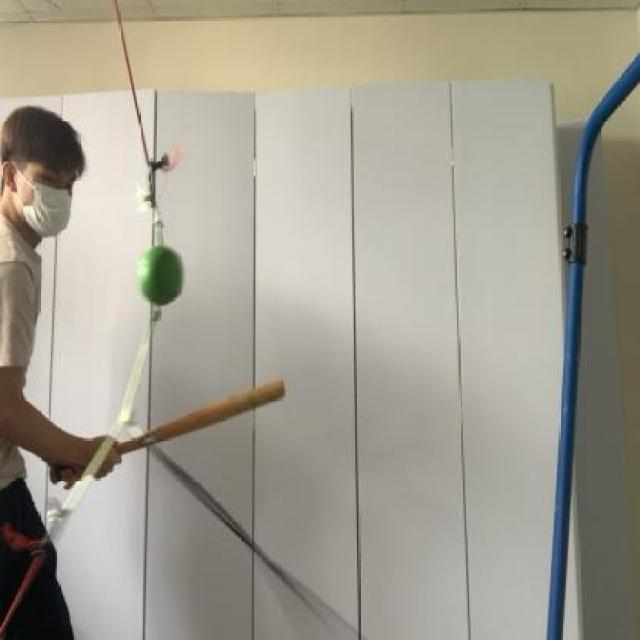baseball: (132, 239, 188, 310)
